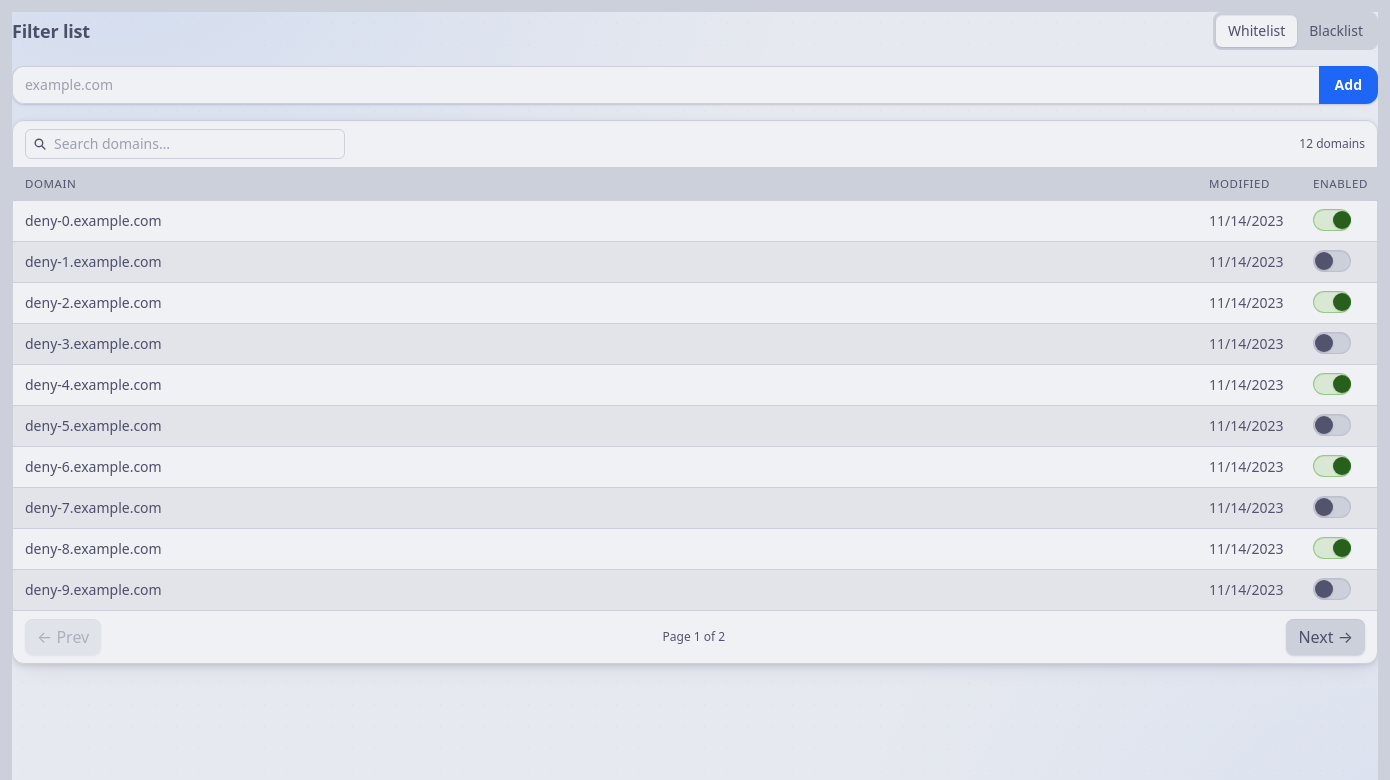
Test case: Filterlist page › validates the domain before submitting
Expected: the text "deny-0.example.com" is shown, [13,201,1197,242]
In the field named "Domain to add": (665, 85) [12,66,1319,104], type "not a domain"
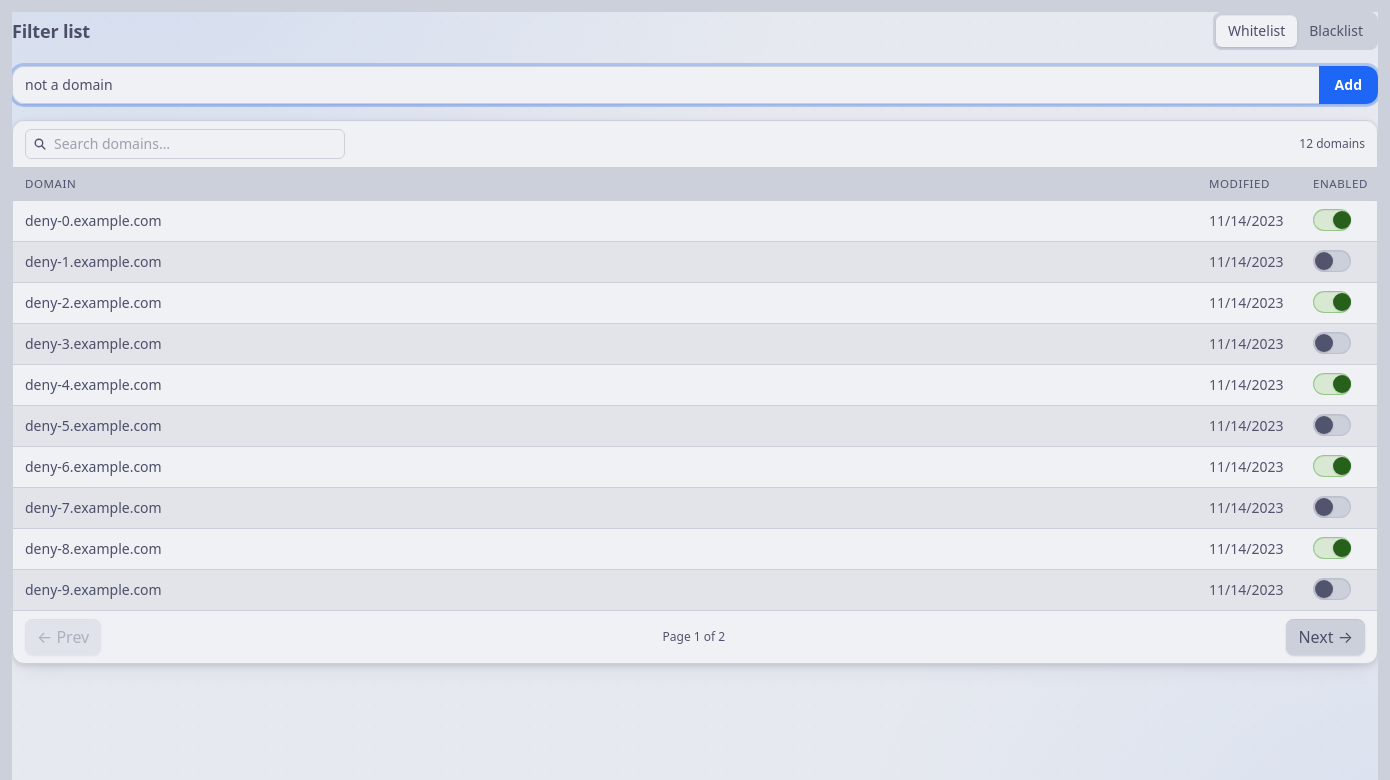
Click the button "Add": (1348, 85) [1319,66,1378,104]
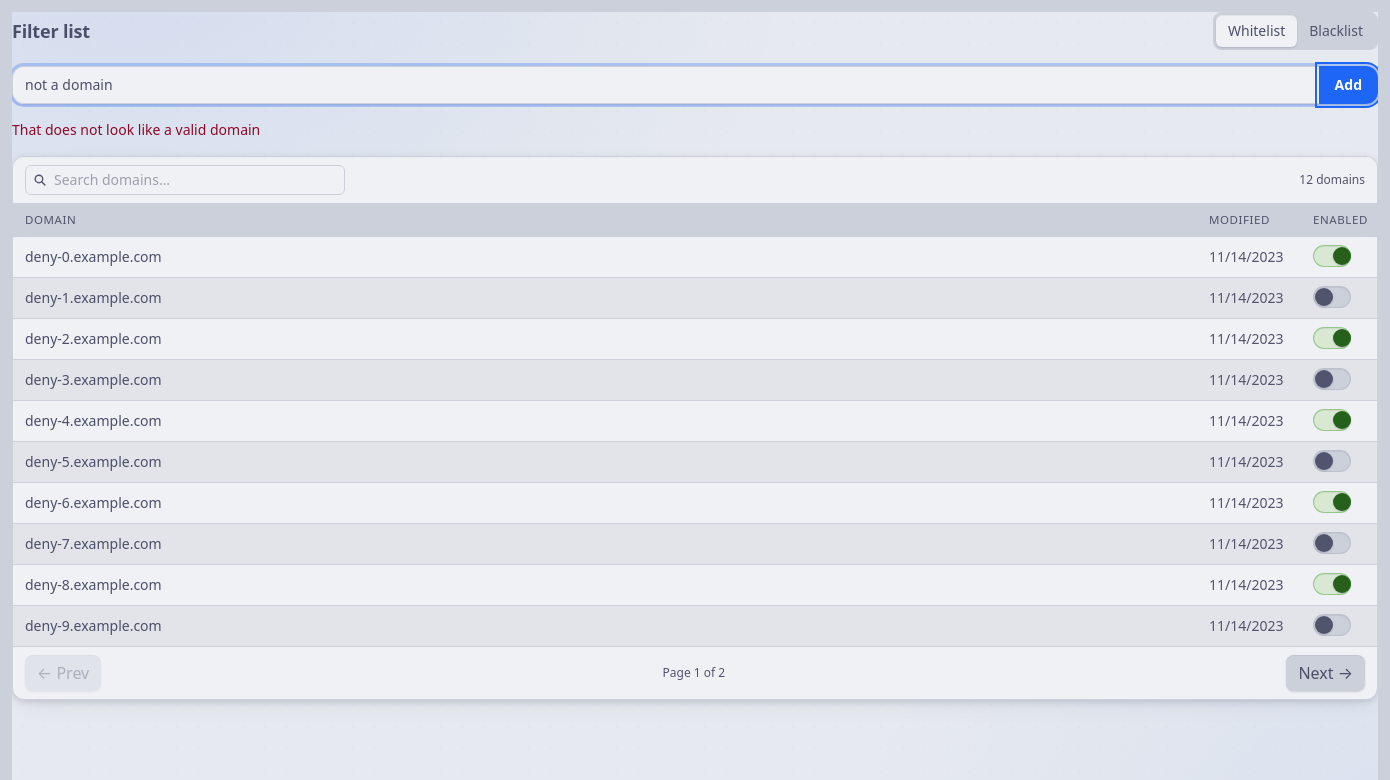
Now the text with test id "domain-error" shows "not look like a valid domain", box [12,120,260,139]
